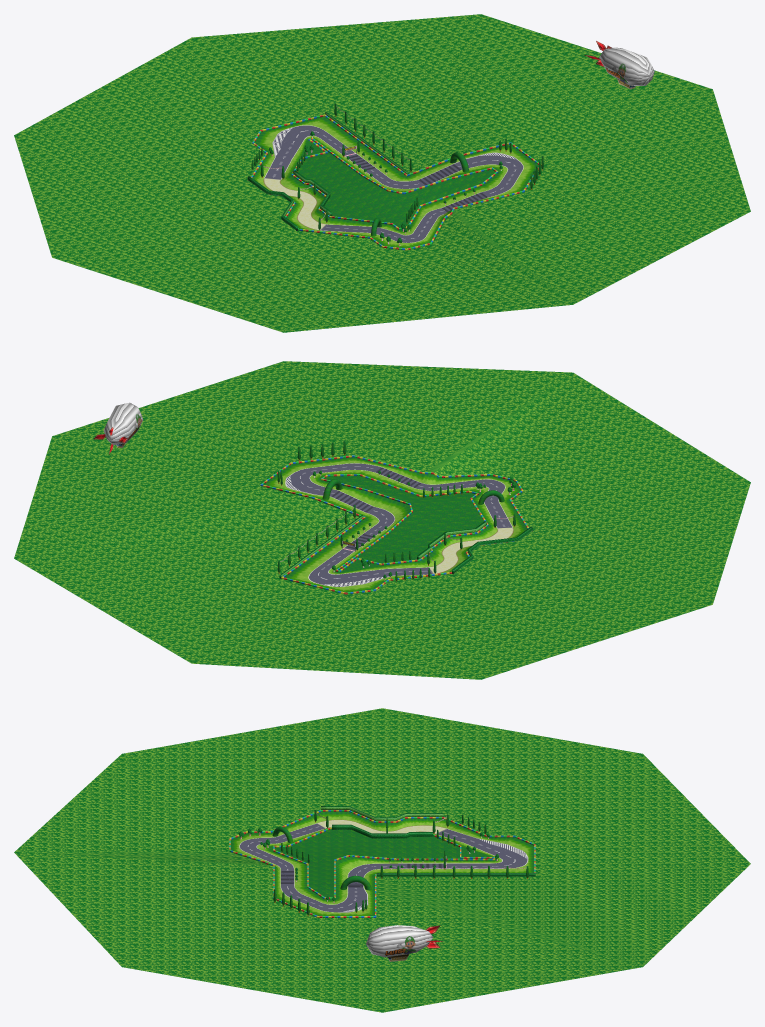
The model's file is Map.fbx.
The picture shows the model from 3 angles, top to bottom: view 1: azimuth 30°, elevation 25°; view 2: azimuth 150°, elevation 25°; view 3: azimuth 270°, elevation 25°; orthographic projection. The views are drawn at different scales.
Parts seen in each view (by area): view 1: gba_peach.w.007, gba_peach.w.017, gba_peach.w.015, gba_peach.w, gba_peach.w.008, gba_peach.w.009; view 2: gba_peach.w.007, gba_peach.w.015, gba_peach.w.017, gba_peach.w.008, gba_peach.w, gba_peach.w.009; view 3: gba_peach.w.007, gba_peach.w.017, gba_peach.w, gba_peach.w.009, gba_peach.w.015, gba_peach.w.008.
Boxes of the visible parts, x1,y1,x2,y2 form: gba_peach.w.007: (14, 14, 750, 332); gba_peach.w.017: (251, 103, 543, 242); gba_peach.w.015: (252, 115, 541, 250); gba_peach.w: (584, 41, 654, 89); gba_peach.w.008: (251, 114, 538, 249); gba_peach.w.009: (247, 112, 408, 230); gba_peach.w.007: (14, 361, 750, 679); gba_peach.w.015: (260, 456, 527, 594); gba_peach.w.017: (277, 440, 515, 580); gba_peach.w.008: (261, 455, 528, 593); gba_peach.w: (93, 402, 142, 454); gba_peach.w.009: (279, 515, 532, 578); gba_peach.w.007: (14, 708, 750, 1012); gba_peach.w.017: (238, 809, 528, 914); gba_peach.w: (366, 925, 442, 961); gba_peach.w.009: (321, 806, 535, 876); gba_peach.w.015: (229, 810, 534, 917); gba_peach.w.008: (229, 810, 535, 916).
Bounding box in the file's own units: 67900 × 6590 × 67900.
18 materials, 18 textured.
